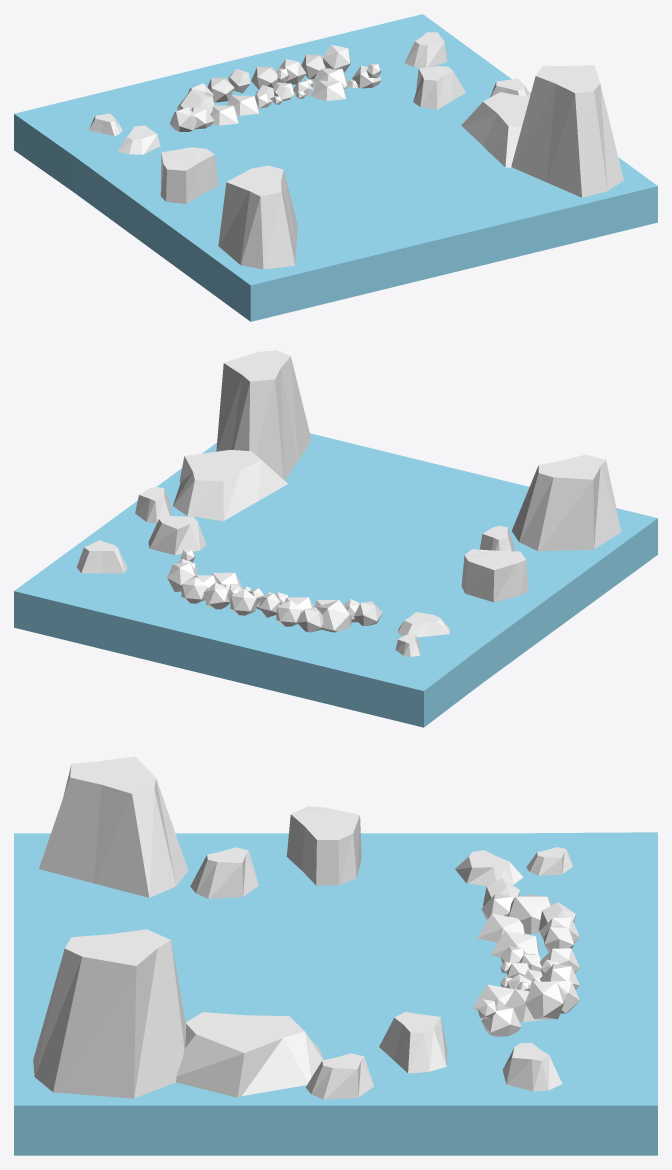
The model's file is stones.fbx.
3 views of the same model, one above another, from view 1: azimuth 30°, elevation 25°; view 2: azimuth 150°, elevation 25°; view 3: azimuth 270°, elevation 25° (orthographic). The views are drawn at different scales.
Parts seen in each view (by area): view 1: Ground_2, Ice_9, Ice_5, Ice_1, Ice_6, Ice, Ice_3, Ice_8, Snow_26, Snow_10, Ice_7, Snow_17 (+6 smaller); view 2: Ground_2, Ice_9, Ice_5, Ice_1, Ice_6, Ice, Ice_3, Ice_2, Ice_8, Snow_1, Ice_4, Snow_10 (+1 smaller); view 3: Ground_2, Ice_9, Ice_5, Ice_1, Ice_6, Ice, Ice_4, Ice_2, Ice_3, Ice_8, Snow_10, Snow_1 (+6 smaller).
Boxes of the visible parts, x1,y1,x2,y2 form: Ground_2: (14, 14, 657, 321); Ice_9: (511, 65, 623, 197); Ice_5: (218, 165, 297, 269); Ice_1: (461, 92, 529, 167); Ice_6: (160, 147, 218, 203); Ice: (413, 66, 465, 109); Ice_3: (404, 32, 447, 67); Ice_8: (118, 125, 160, 154); Snow_26: (311, 80, 345, 100); Snow_10: (322, 44, 350, 72); Ice_7: (89, 113, 122, 136); Snow_17: (207, 77, 234, 102); Ground_2: (14, 433, 657, 727); Ice_9: (216, 350, 311, 480); Ice_5: (512, 454, 621, 551); Ice_1: (173, 450, 287, 520); Ice_6: (461, 549, 528, 602); Ice: (148, 515, 206, 554); Ice_3: (77, 540, 127, 573); Ice_2: (135, 487, 170, 523); Ice_8: (397, 612, 449, 637); Snow_1: (317, 600, 351, 632); Ice_4: (479, 525, 514, 551); Snow_10: (167, 562, 197, 591); Ground_2: (14, 832, 657, 1155); Ice_9: (33, 929, 186, 1098); Ice_5: (39, 756, 188, 897); Ice_1: (176, 1012, 323, 1097); Ice_6: (286, 806, 361, 885); Ice: (379, 1011, 447, 1073); Ice_4: (190, 847, 258, 898); Ice_2: (305, 1053, 373, 1099); Ice_3: (502, 1043, 562, 1091); Ice_8: (455, 850, 523, 885); Snow_10: (525, 981, 566, 1019); Snow_1: (508, 894, 551, 934).
Size of the model in its own units: 8410 by 2538 by 8376.
